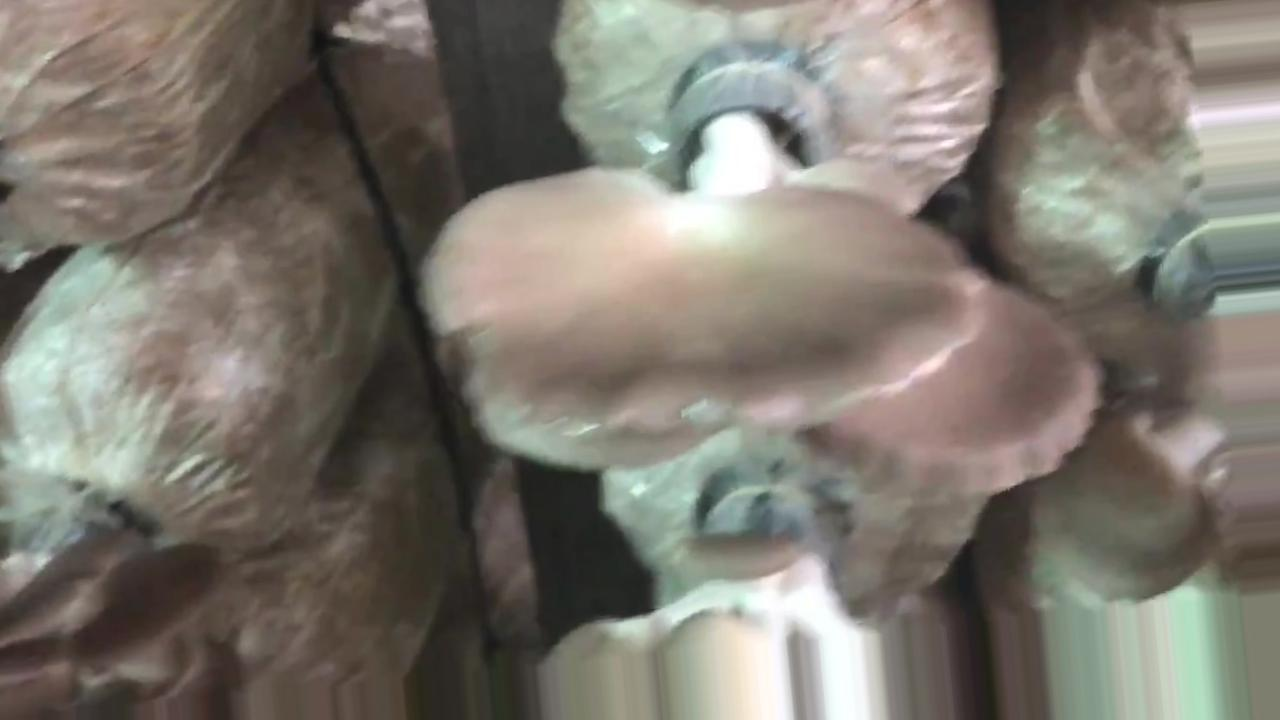nam: (434, 66, 986, 445), (828, 274, 1109, 495)
